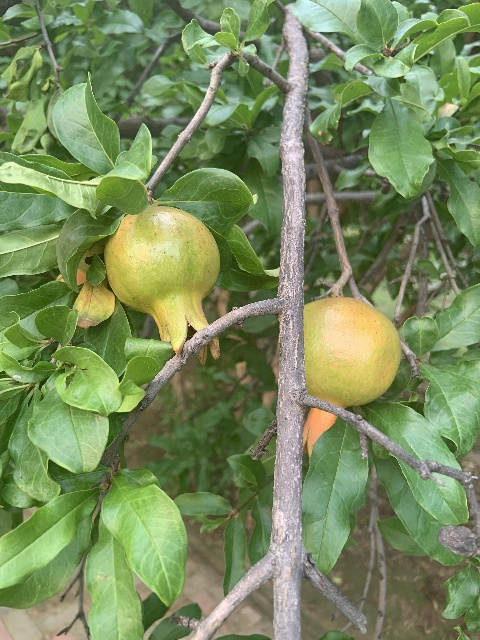mid-growth: (274, 296, 401, 458), (104, 205, 226, 359)
